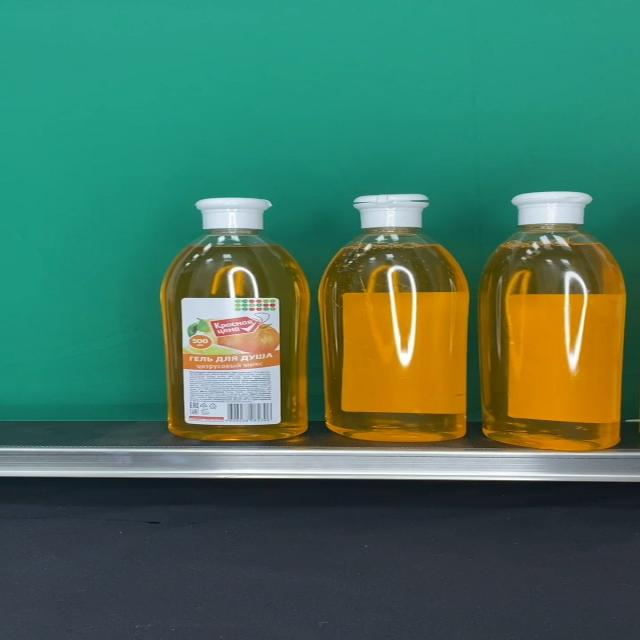Bottle: (478, 192, 628, 452), (319, 194, 470, 442), (161, 196, 310, 442)
Cap: (510, 192, 592, 226), (354, 194, 430, 228), (195, 197, 273, 230)
